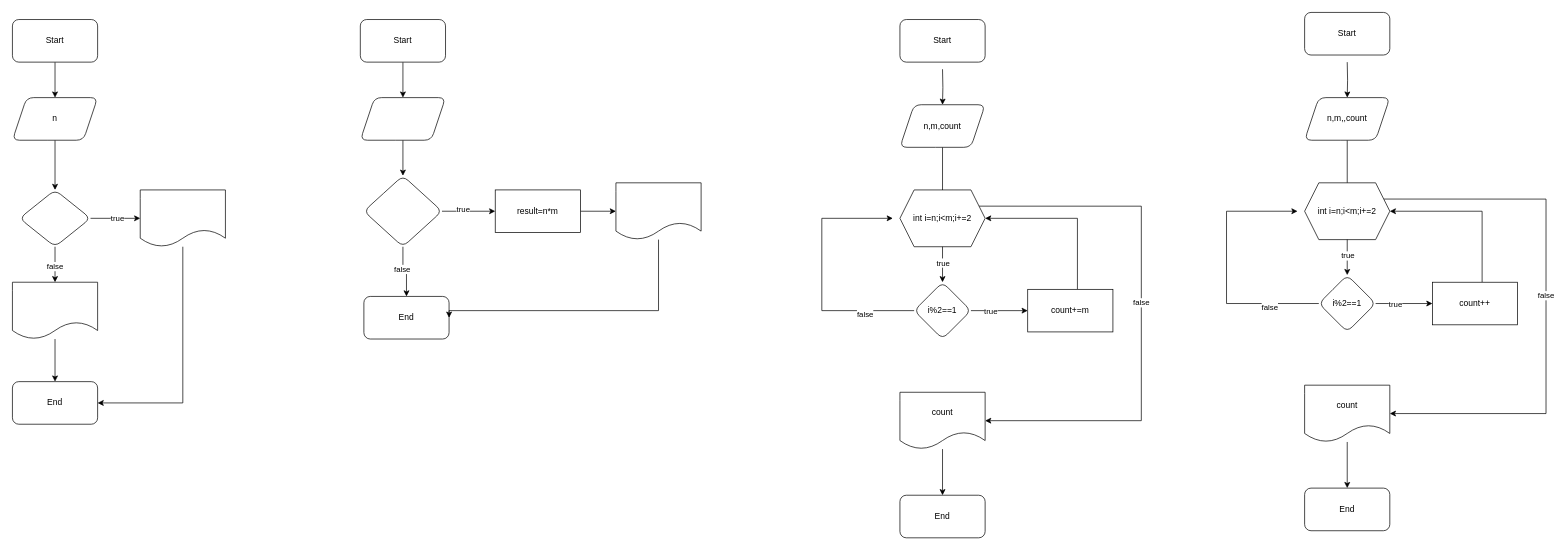
The diagram is 1566 pixels wide and 550 high, and some of its shapes have lost their labels. The shapes that lost their labels are listed below. From the top down, each one's box as (x1, y1, x2, y2) in pixels, then its label:
(360, 97, 446, 140): n,m,result
(19, 189, 91, 247): n%7==0 && n%3==0
(140, 189, 225, 247): Bölünür
(363, 175, 442, 247): n%2==0 && m%2==0
(615, 182, 701, 240): result
(12, 282, 98, 339): Bölünmür
